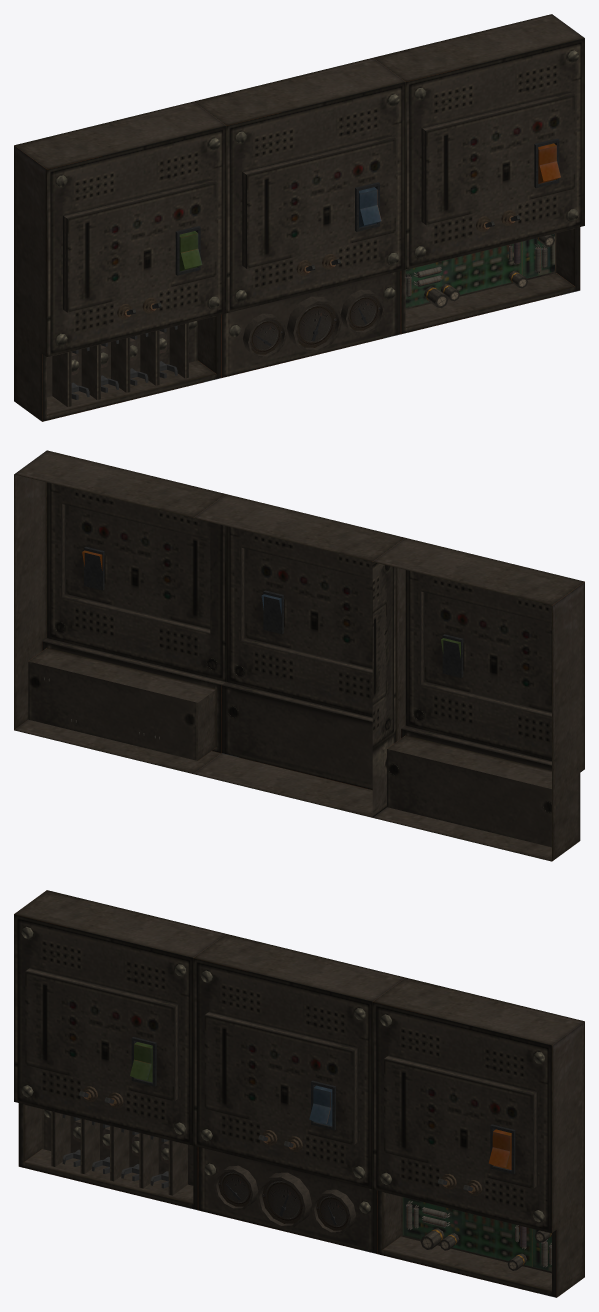
The model's file is panel_etx_2_2.obj.
The picture shows the model from 3 angles, top to bottom: view 1: azimuth 30°, elevation 25°; view 2: azimuth 150°, elevation 25°; view 3: azimuth 330°, elevation 25°; orthographic projection.
Parts seen in each view (by area): view 1: panel_etx_2_2, panel_etx_2_2_button_child_1, panel_etx_2_2_button_child_3, panel_etx_2_2_button_child_2; view 2: panel_etx_2_2; view 3: panel_etx_2_2, panel_etx_2_2_button_child_2, panel_etx_2_2_button_child_3, panel_etx_2_2_button_child_1.
Part boxes in pixels (bbox=[...]): panel_etx_2_2: bbox=[14, 14, 584, 421]; panel_etx_2_2_button_child_1: bbox=[179, 231, 202, 271]; panel_etx_2_2_button_child_3: bbox=[538, 143, 560, 183]; panel_etx_2_2_button_child_2: bbox=[359, 187, 381, 227]; panel_etx_2_2: bbox=[14, 450, 584, 861]; panel_etx_2_2: bbox=[14, 890, 584, 1297]; panel_etx_2_2_button_child_2: bbox=[309, 1085, 332, 1126]; panel_etx_2_2_button_child_3: bbox=[489, 1129, 511, 1169]; panel_etx_2_2_button_child_1: bbox=[130, 1042, 152, 1082].
Bounding box in the file's own units: 1.32 × 0.6 × 0.1866.
